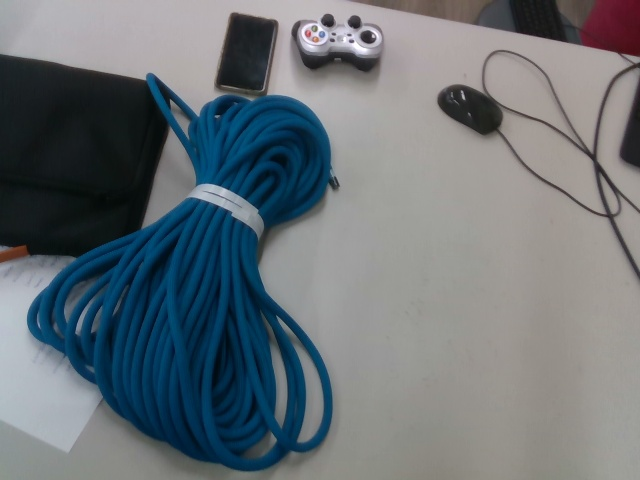rope: (25, 68, 336, 473)
